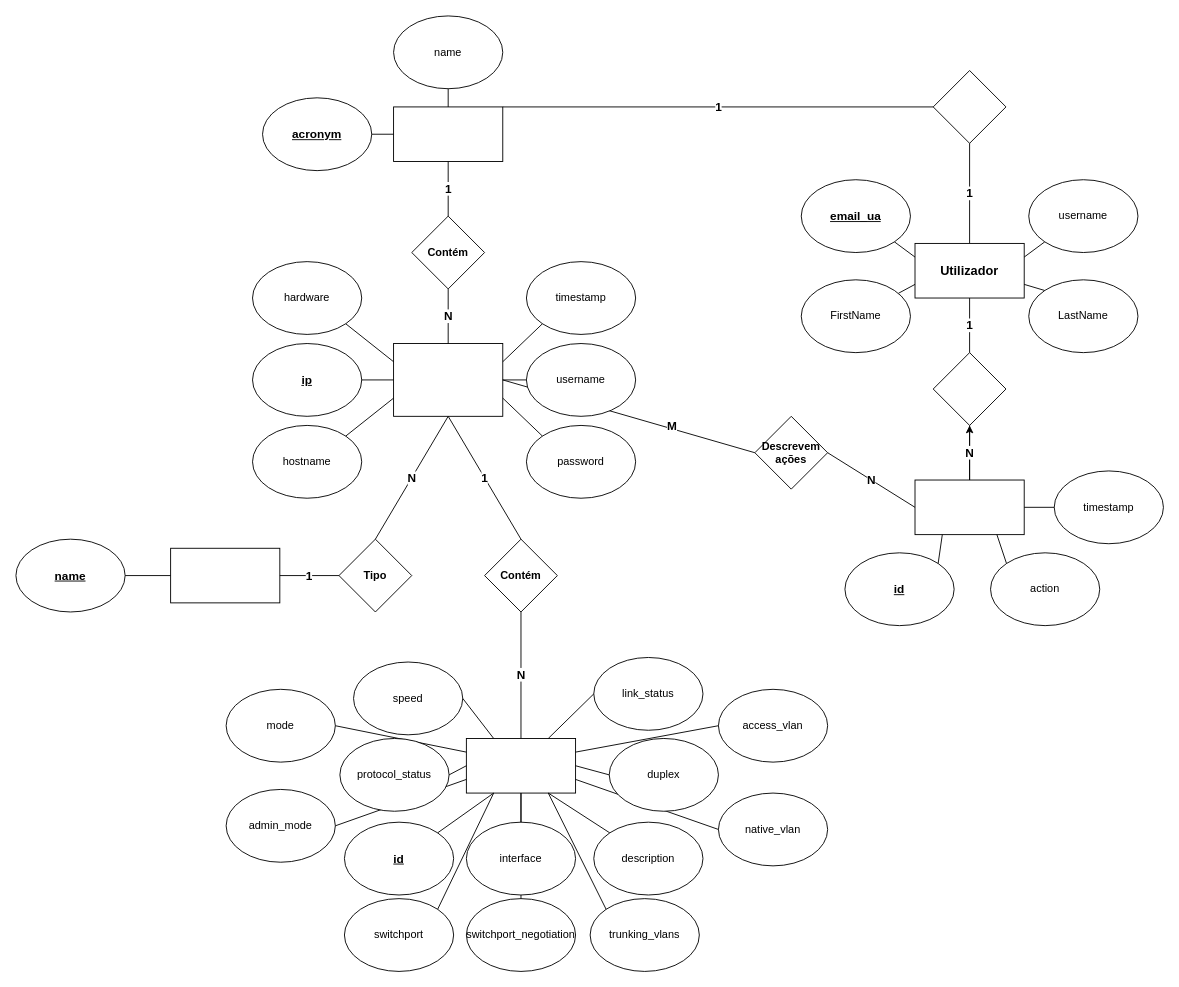
The diagram is 1179 pixels wide and 987 high, and some of its shapes have lost their labels. Each missing label, with the box of its shape:
Associado: (932, 352, 1006, 425)
Audit_Logs: (914, 479, 1024, 535)
Department: (393, 106, 503, 162)
Pertence: (932, 70, 1006, 143)
Platform: (170, 547, 280, 603)
Portas: (465, 738, 576, 793)
Switch: (393, 343, 503, 416)
